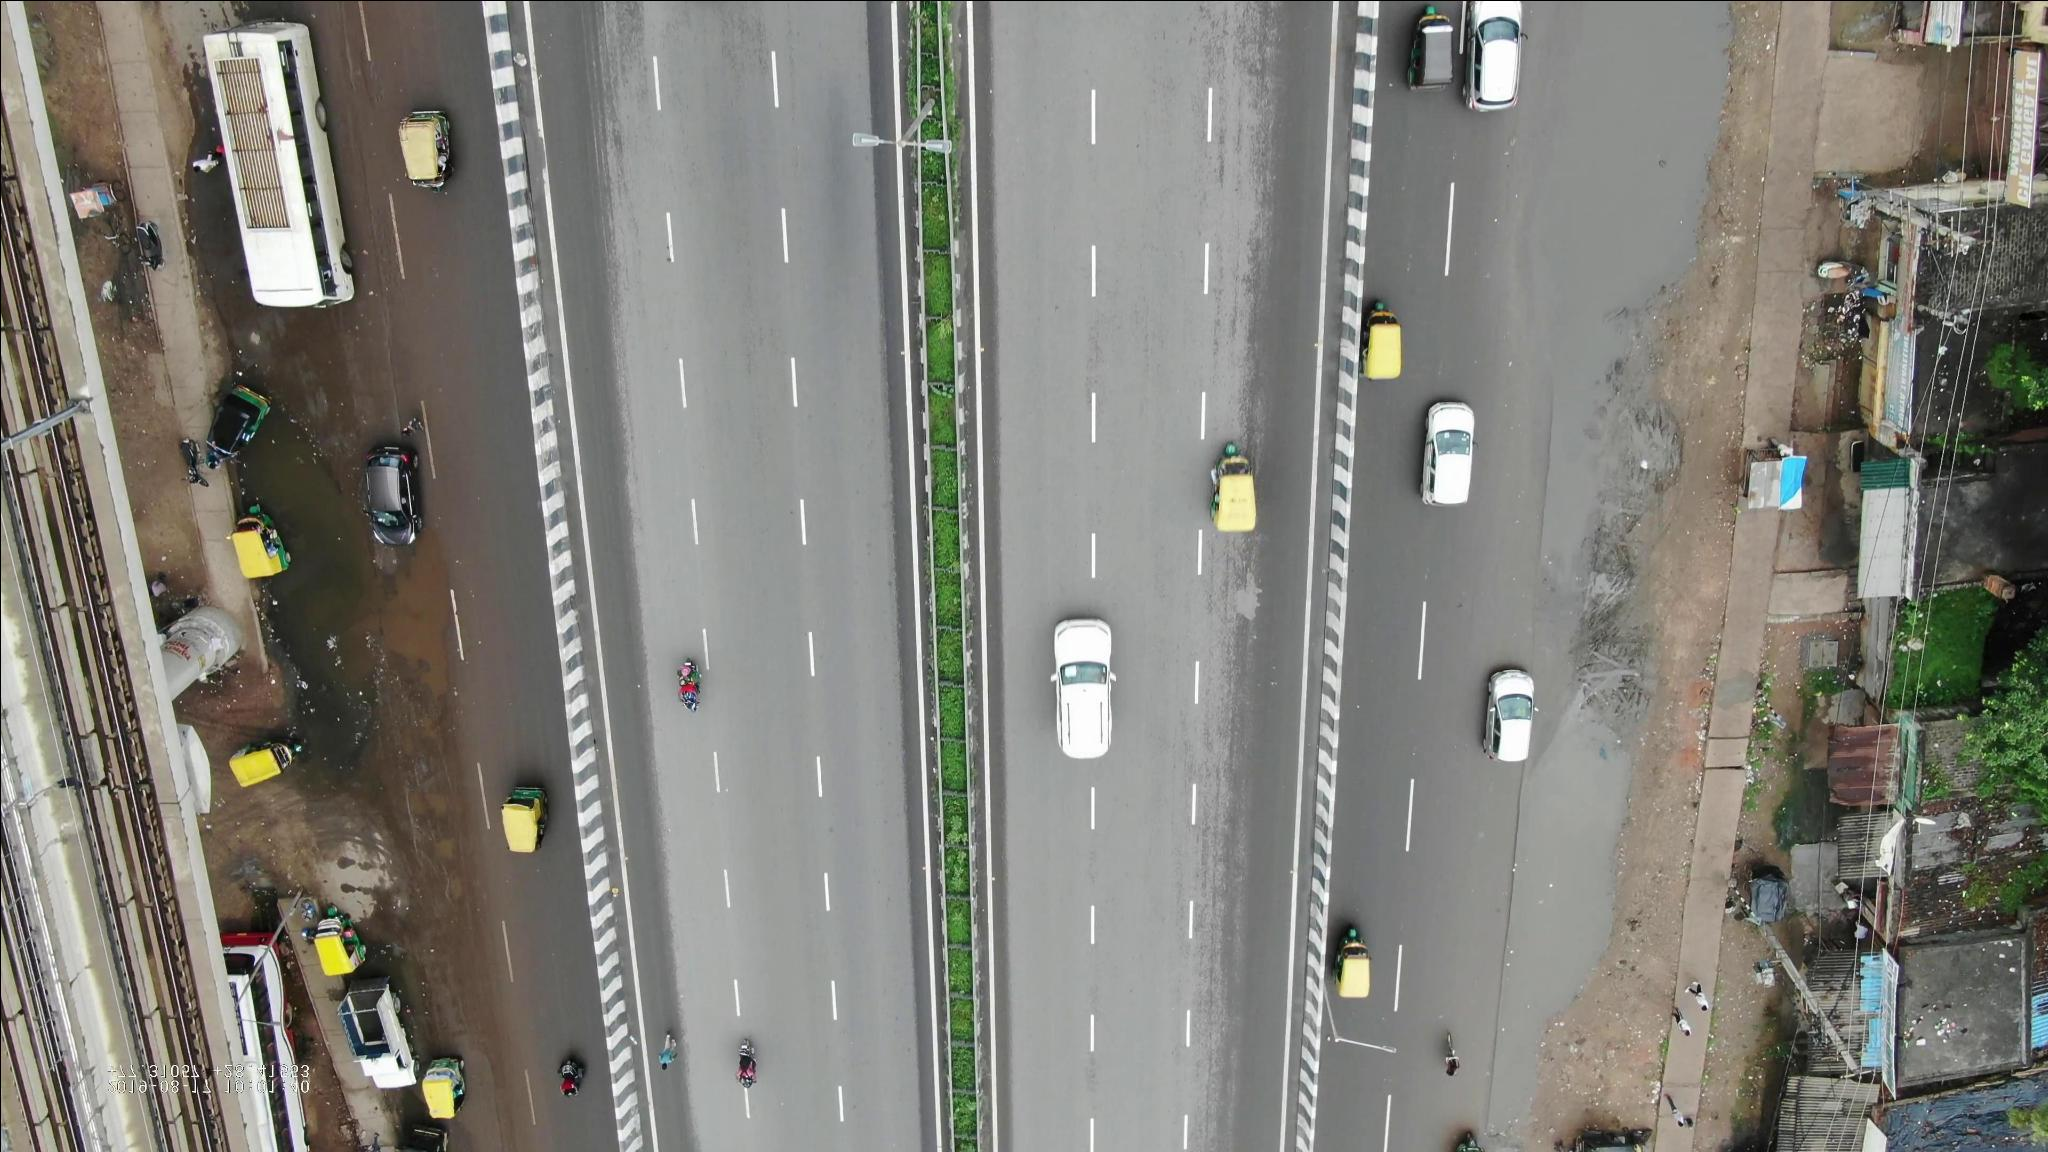Waterlogging: (1546, 35, 1739, 560), (1480, 775, 1636, 1084), (264, 581, 404, 700), (264, 409, 359, 497)
